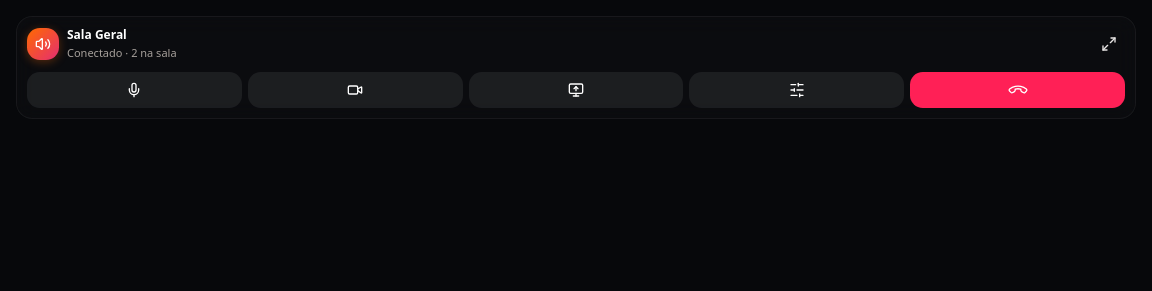
it: sensibilidade do microfone › com o corte no piso, avisa que tudo passa
Click the button named "Configurações da chamada".
click(797, 90)  # box left=689, top=72, right=904, bottom=108
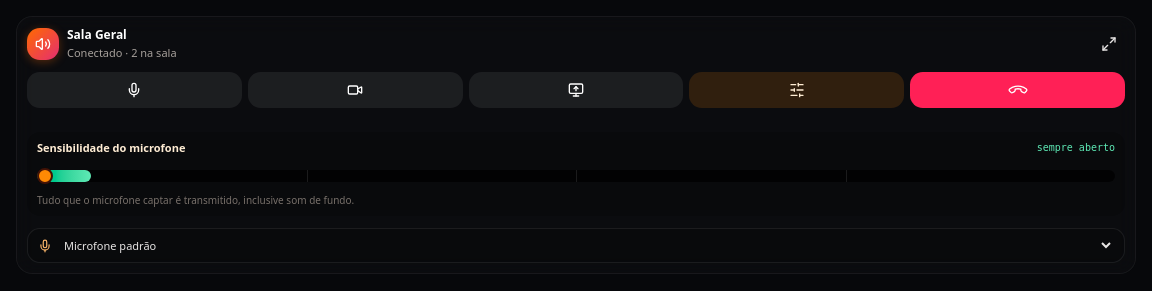
Now the text "sempre aberto" is shown, box left=1037, top=140, right=1115, bottom=155
